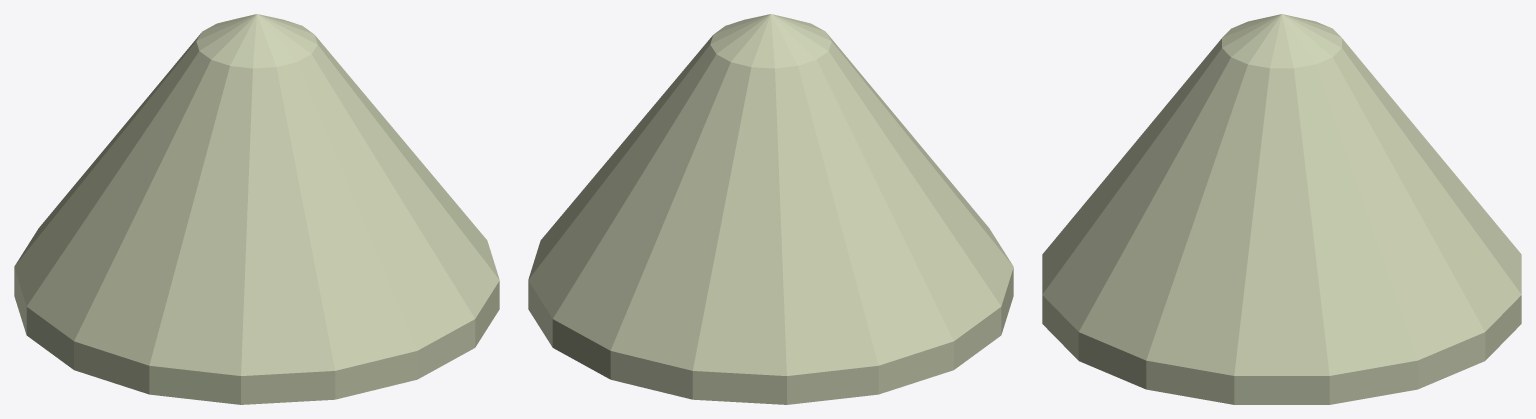
File: sargas_control_s1p5_1_collider.obj
3 views of the same model, side by side, from view 1: azimuth 30°, elevation 25°; view 2: azimuth 150°, elevation 25°; view 3: azimuth 270°, elevation 25° (orthographic).
Visible parts, largest first — view 1: sargas_control_s1p5_1_collider; view 2: sargas_control_s1p5_1_collider; view 3: sargas_control_s1p5_1_collider.
Boxes of the visible parts, x1=… form: sargas_control_s1p5_1_collider: x1=14, y1=14, x2=499, y2=404; sargas_control_s1p5_1_collider: x1=528, y1=14, x2=1013, y2=404; sargas_control_s1p5_1_collider: x1=1042, y1=14, x2=1521, y2=404.
Bounding box in the file's own units: 1.88 × 1.25 × 1.88.
